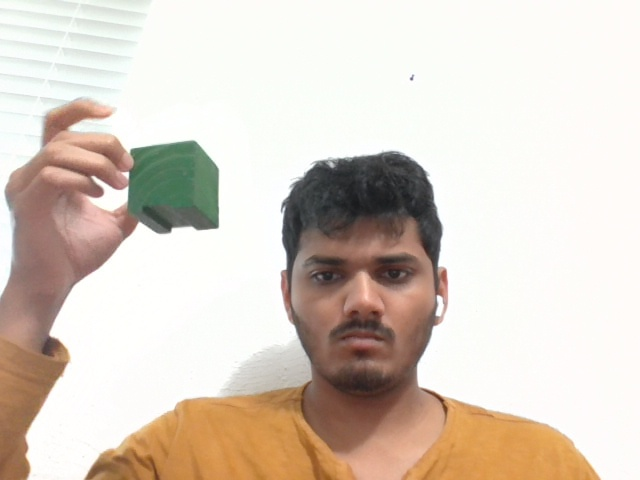GreenBlock: (129, 140, 219, 235)
